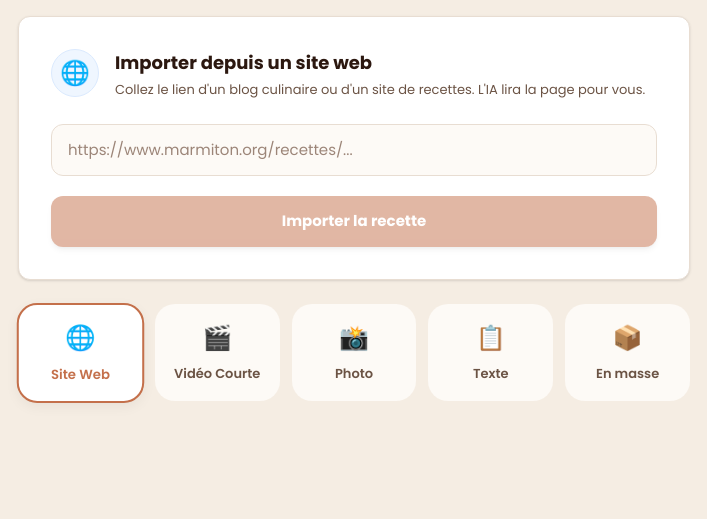
Test: ImportSourceSelector › permet de basculer entre les différents onglets
This screenshot has width=707, height=519.
Expected: the field with placeholder "https://www.marmiton.org/recettes/..." is shown, [51,124,657,176]
Note: Cliquer sur 'Texte'
Click the button "📋 Texte" at (491, 352), box [428,304,553,401]
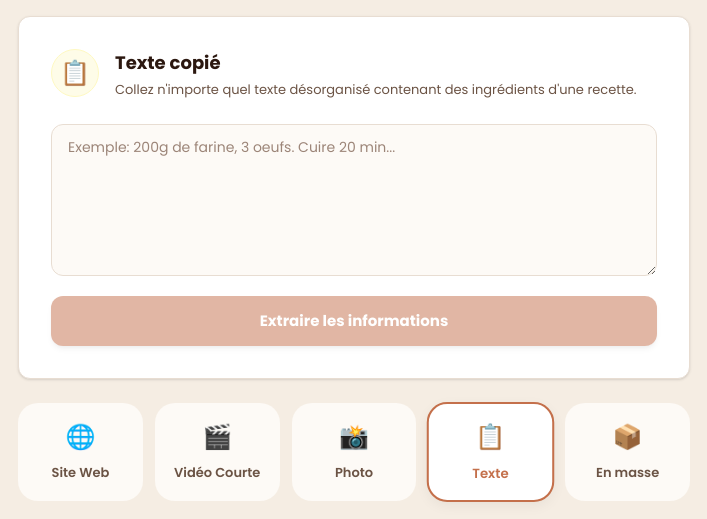
Expected: the field with placeholder "marmiton.org" is not shown
Expected: the text box with placeholder "Exemple: 200g de farine, 3 oeufs. Cuire 20 min..." is shown, [51,124,657,276]
Note: Revenir sur 'Site Web'
Click the button "🌐 Site Web" at (80, 452), box [18,403,143,500]
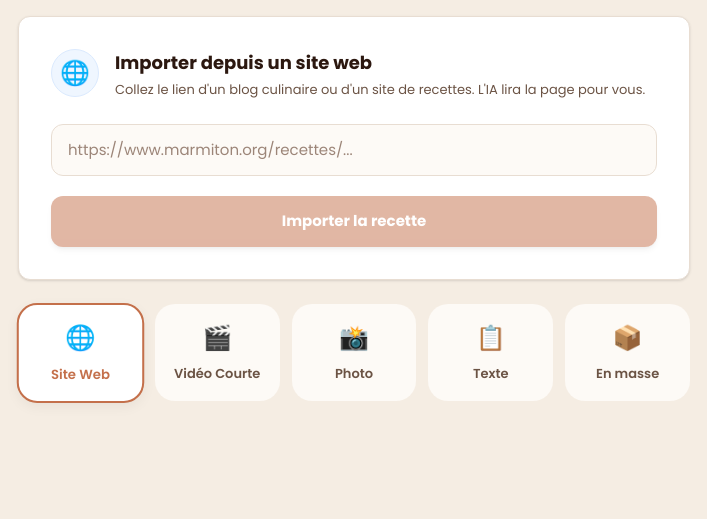
Expected: the field with placeholder "https://www.marmiton.org/recettes/..." is shown, [51,124,657,176]
